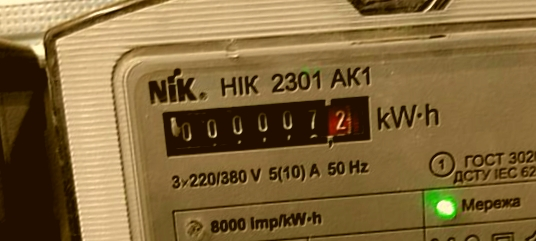0: (178, 118, 194, 143), (255, 110, 270, 134), (230, 113, 244, 137), (280, 108, 294, 132), (204, 117, 218, 140)
2: (333, 108, 347, 132)
7: (306, 106, 319, 131)
screen: (151, 85, 382, 166)
